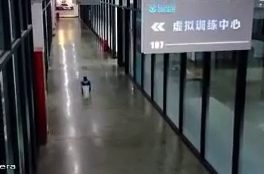robot dog: (80, 75, 92, 96)
